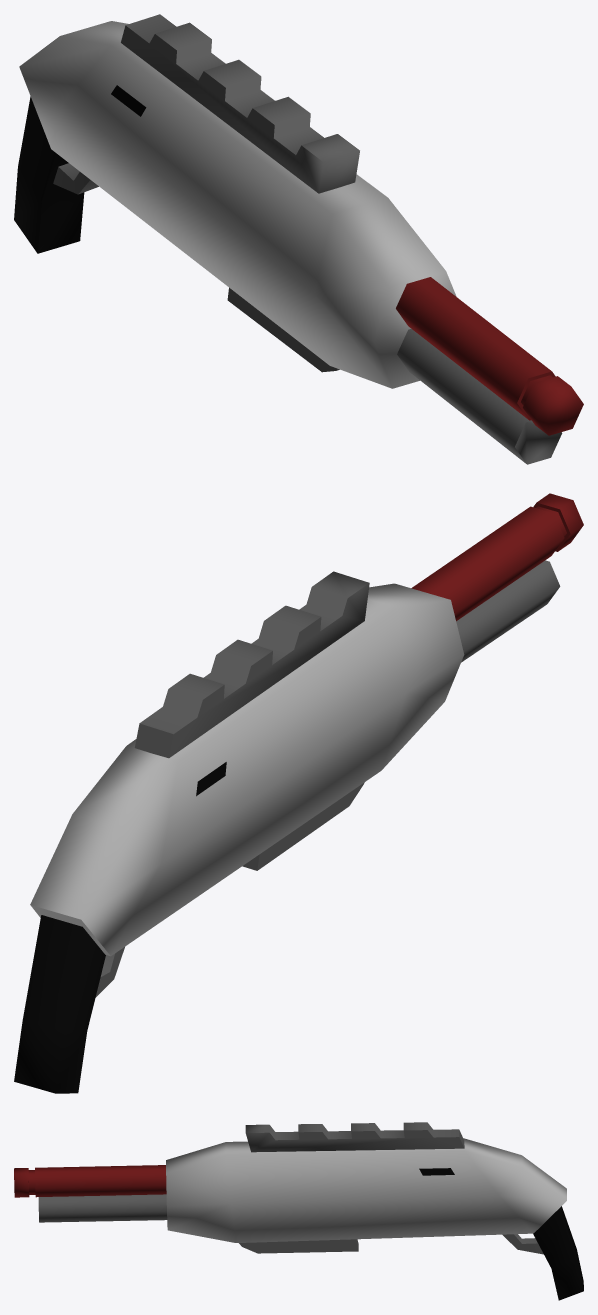
Rendered from shotgun.fbx.
3 views of the same model, one above another, from view 1: azimuth 30°, elevation 25°; view 2: azimuth 150°, elevation 25°; view 3: azimuth 270°, elevation 25° (orthographic). The views are drawn at different scales.
Parts seen in each view (by area): view 1: shotgun_R_inhand1; view 2: shotgun_R_inhand1; view 3: shotgun_R_inhand1.
Boxes of the visible parts, bbox=[...] form: shotgun_R_inhand1: bbox=[14, 14, 583, 464]; shotgun_R_inhand1: bbox=[14, 493, 583, 1093]; shotgun_R_inhand1: bbox=[14, 1122, 583, 1300].
Size of the model in its own units: 7.29 by 23.45 by 71.89.
